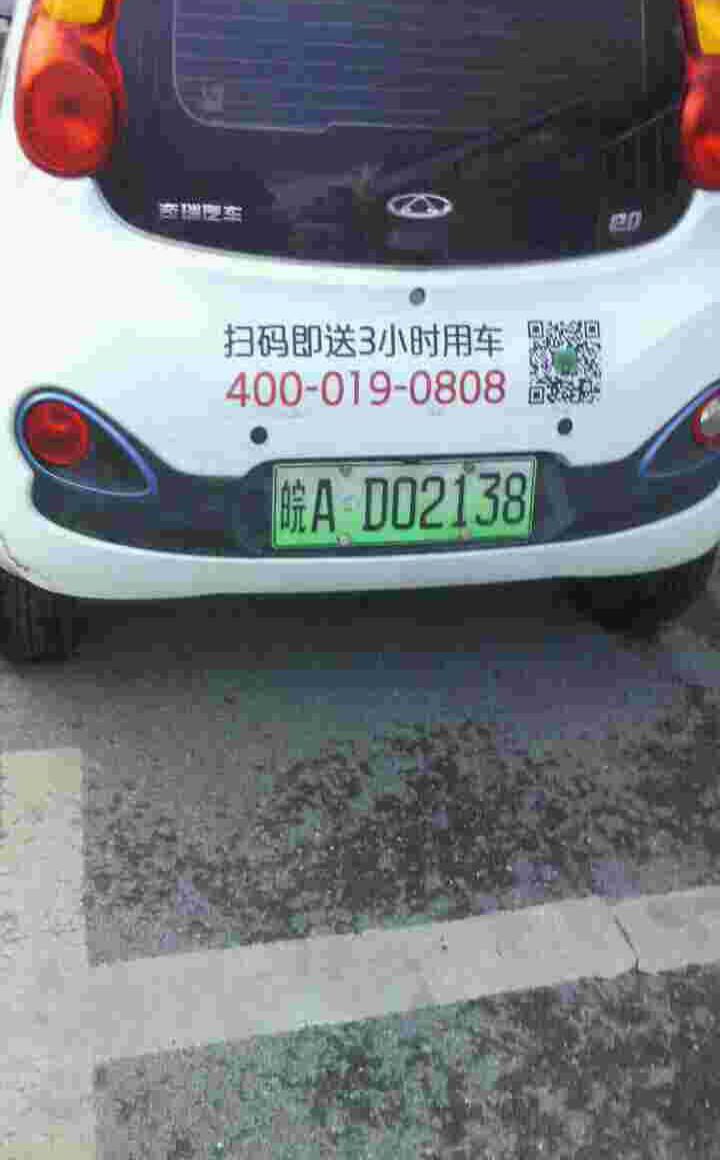car: (267, 459, 543, 541)
